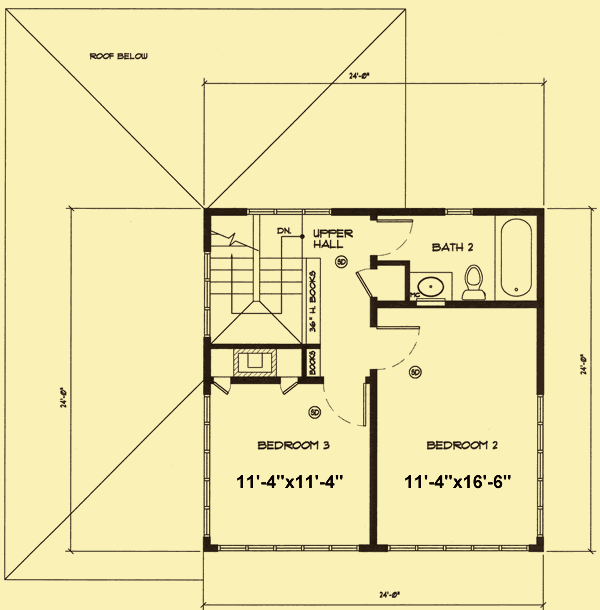door: (321, 377, 367, 428), (374, 325, 422, 371), (371, 217, 414, 257), (350, 266, 375, 300), (212, 374, 236, 396), (275, 377, 298, 397)
large_sink: (459, 263, 491, 300)
small_sink: (408, 272, 455, 302)
stairs: (209, 213, 307, 347)
tub: (493, 214, 539, 301)
window: (215, 541, 362, 557), (383, 542, 531, 555), (241, 205, 333, 218), (443, 205, 475, 216)
